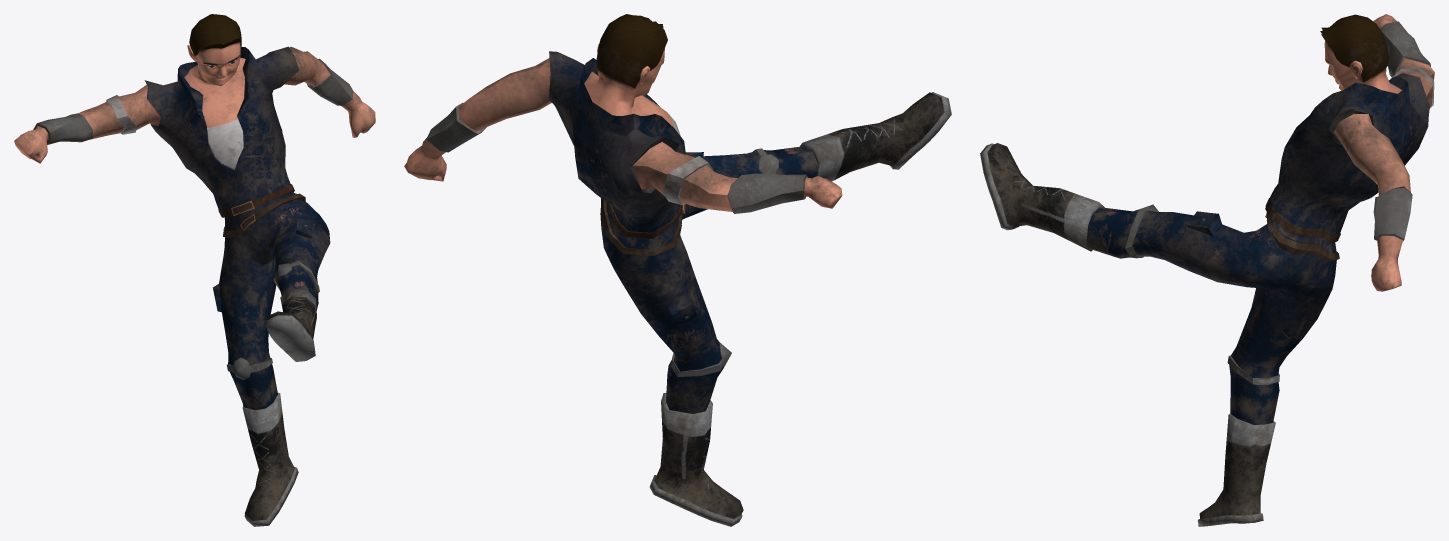
Rendered from Anim_ataque_f3_jugador.0030.obj.
The picture shows the model from 3 angles, left to right: view 1: azimuth 30°, elevation 25°; view 2: azimuth 150°, elevation 25°; view 3: azimuth 270°, elevation 25°; orthographic projection. The views are drawn at different scales.
Visible parts, largest first — view 1: polySurface1; view 2: polySurface1; view 3: polySurface1.
Boxes of the visible parts, x1,y1,x2,y2 form: polySurface1: (14,14,375,526); polySurface1: (404,14,951,526); polySurface1: (980,14,1434,526).
Size of the model in its own units: 7.84 by 9.57 by 7.57.
